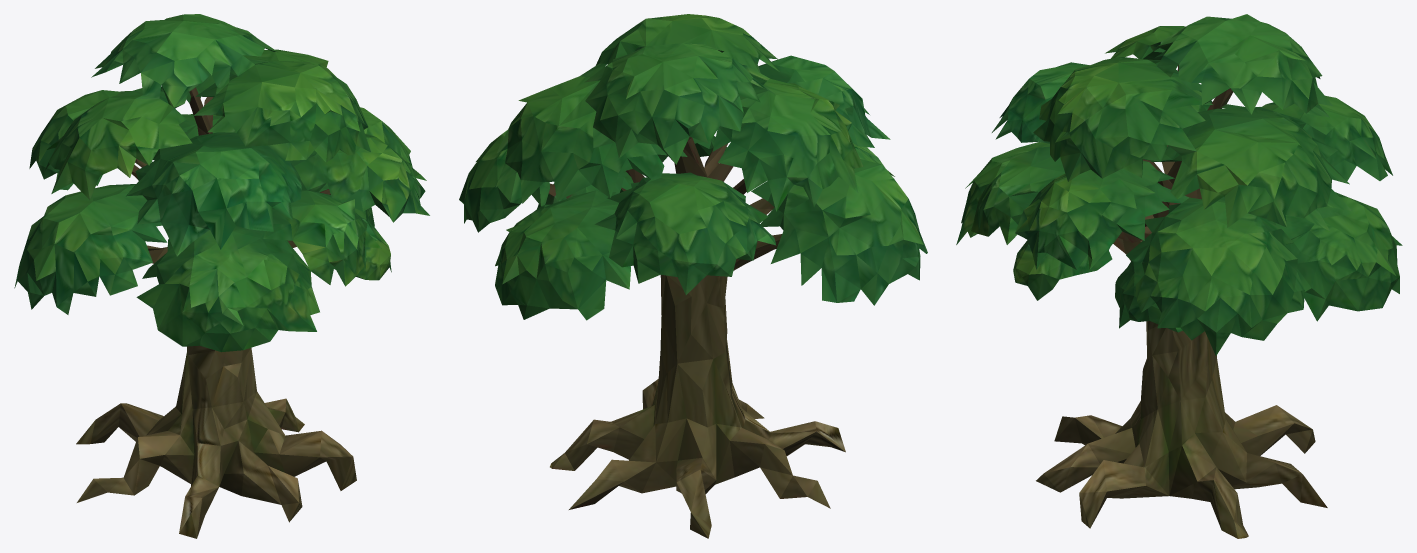
The model's file is arvore_borda.glb.
3 renders of one model, left to right at view 1: azimuth 30°, elevation 25°; view 2: azimuth 150°, elevation 25°; view 3: azimuth 270°, elevation 25°, orthographic. The views are drawn at different scales.
Parts seen in each view (by area): view 1: lo.obj; view 2: lo.obj; view 3: lo.obj.
Part boxes in pixels (<box>): lo.obj: <box>14,14,429,538</box>; lo.obj: <box>459,14,927,538</box>; lo.obj: <box>956,14,1402,538</box>.
Size of the model in its own units: 0.9735 by 0.9854 by 0.8805.
1 material, 1 textured.
